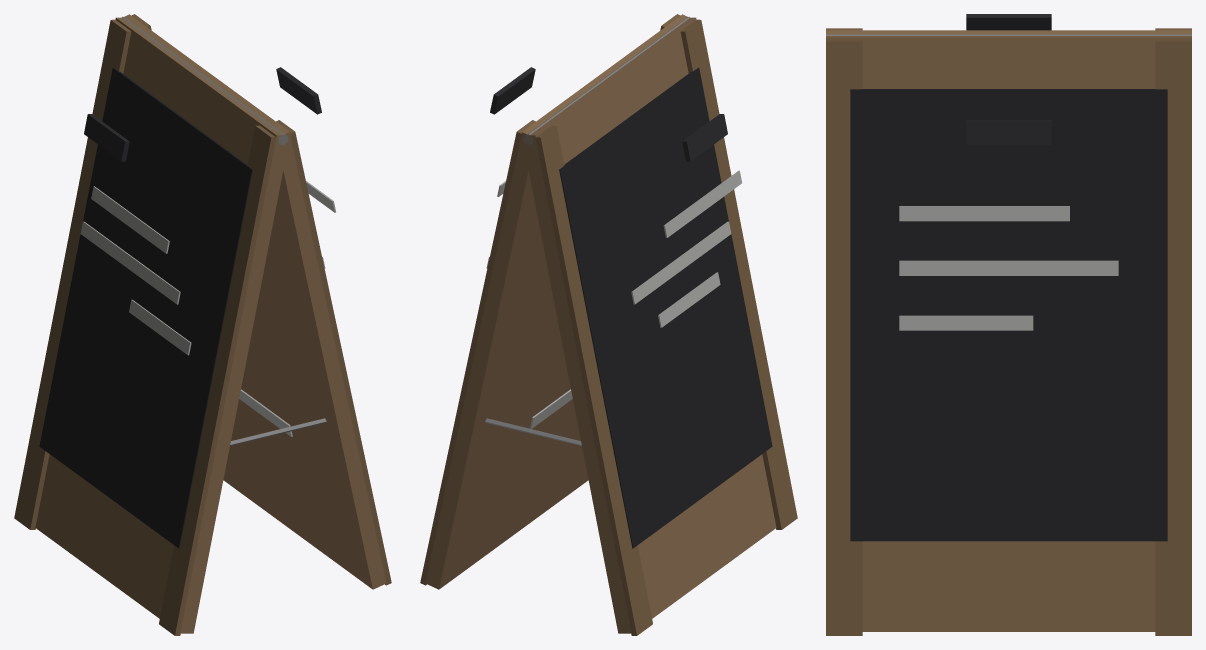
Rendered from SM_Prop_cafe_aboard_0.glb.
3 renders of one model, left to right at view 1: azimuth 30°, elevation 25°; view 2: azimuth 150°, elevation 25°; view 3: azimuth 270°, elevation 25°, orthographic. The views are drawn at different scales.
Parts seen in each view (by area): view 1: SM_Prop_cafe_aboard_0; view 2: SM_Prop_cafe_aboard_0; view 3: SM_Prop_cafe_aboard_0.
Part boxes in pixels (<box>): SM_Prop_cafe_aboard_0: <box>14,14,391,635</box>; SM_Prop_cafe_aboard_0: <box>420,14,797,635</box>; SM_Prop_cafe_aboard_0: <box>826,14,1191,635</box>.
Bounding box in the file's own units: 0.4676 × 0.9844 × 0.6.
